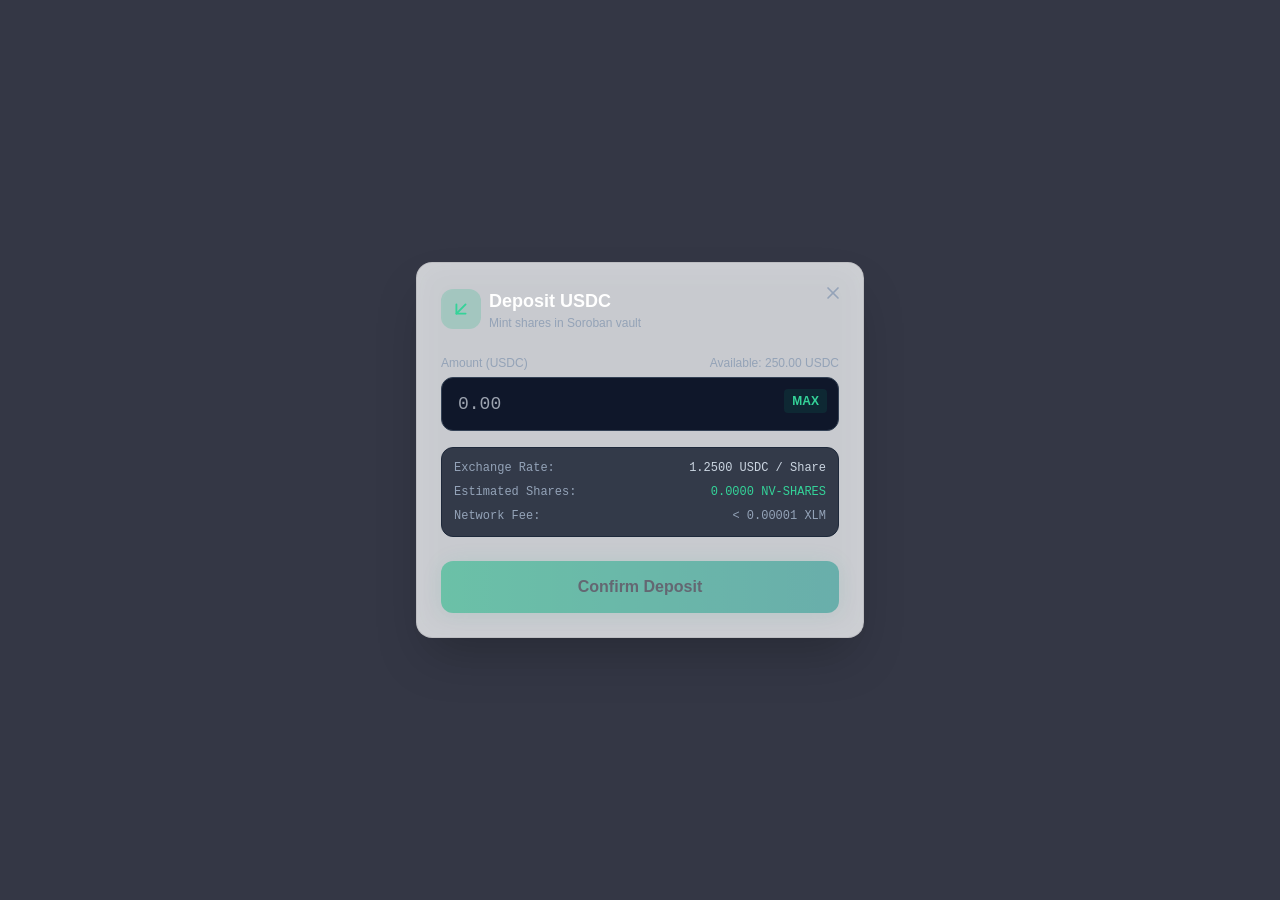
Test: ActionModal › shows reconnect guidance for a disconnected-wallet error
Step 1. Type "25" into the number field with placeholder "0.00" → (640, 404), box [441, 377, 839, 431]
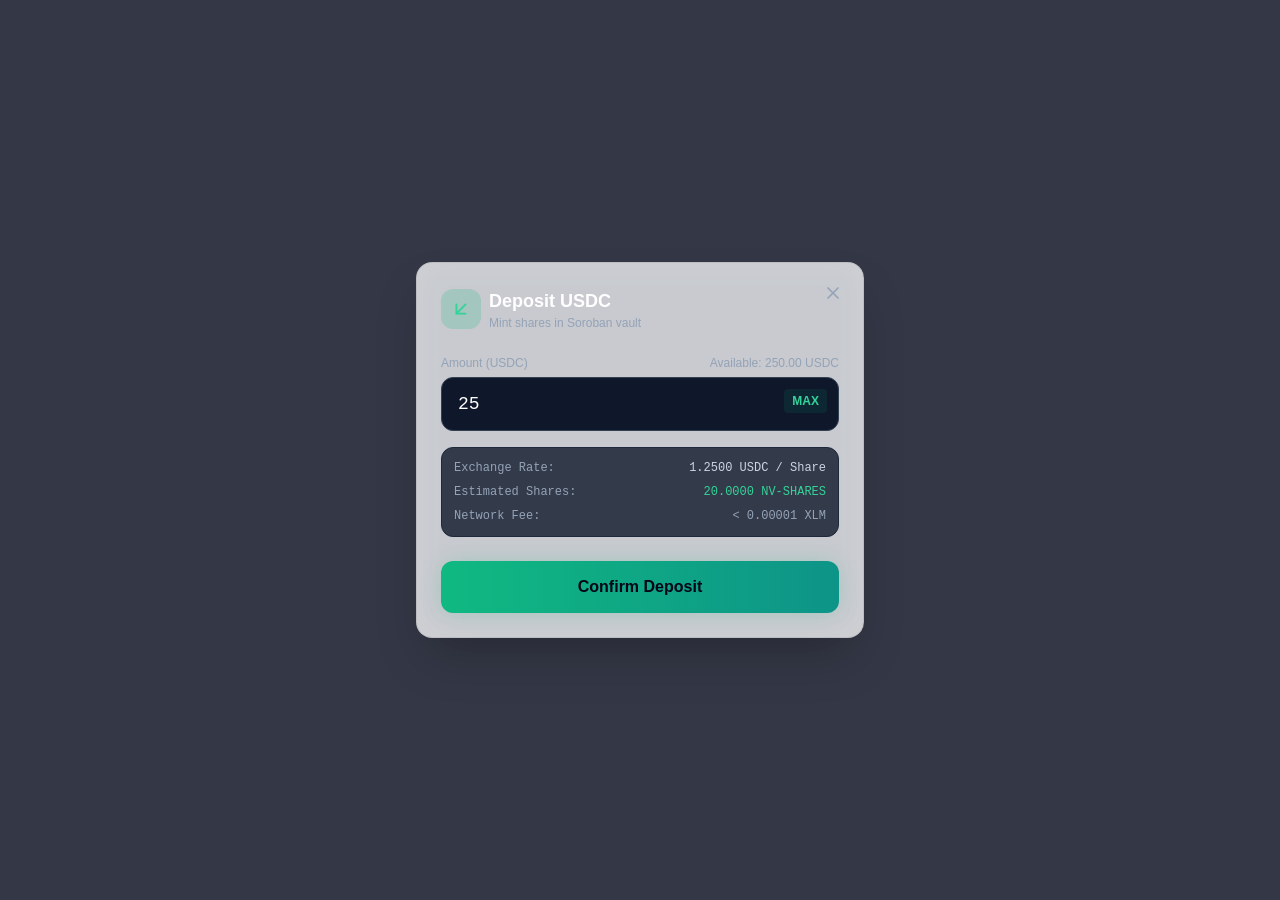
Step 2. Submit the form named "confirm deposit", box [441, 287, 839, 613]
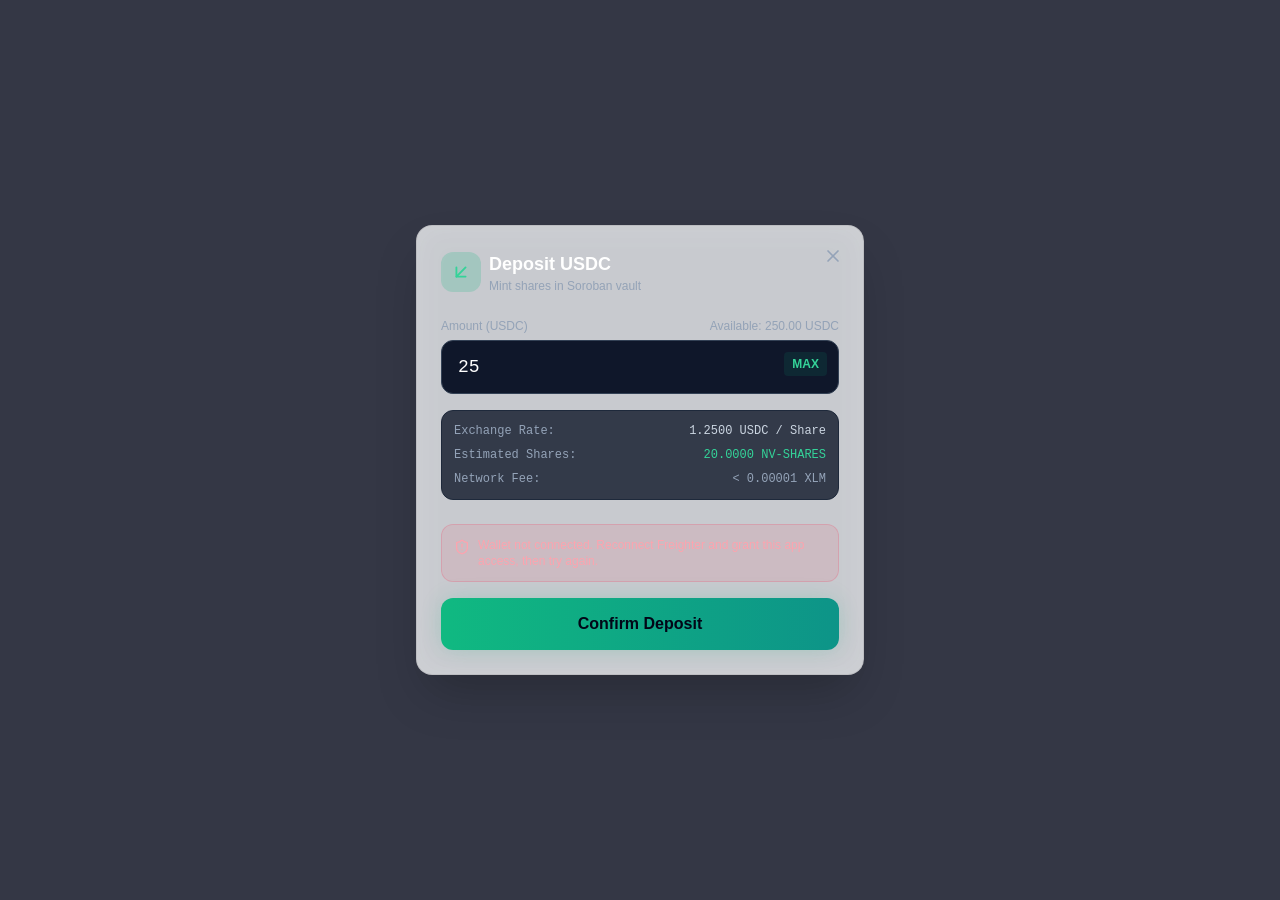
Expected: the message shows "Reconnect Freighter", [478, 538, 804, 568]
